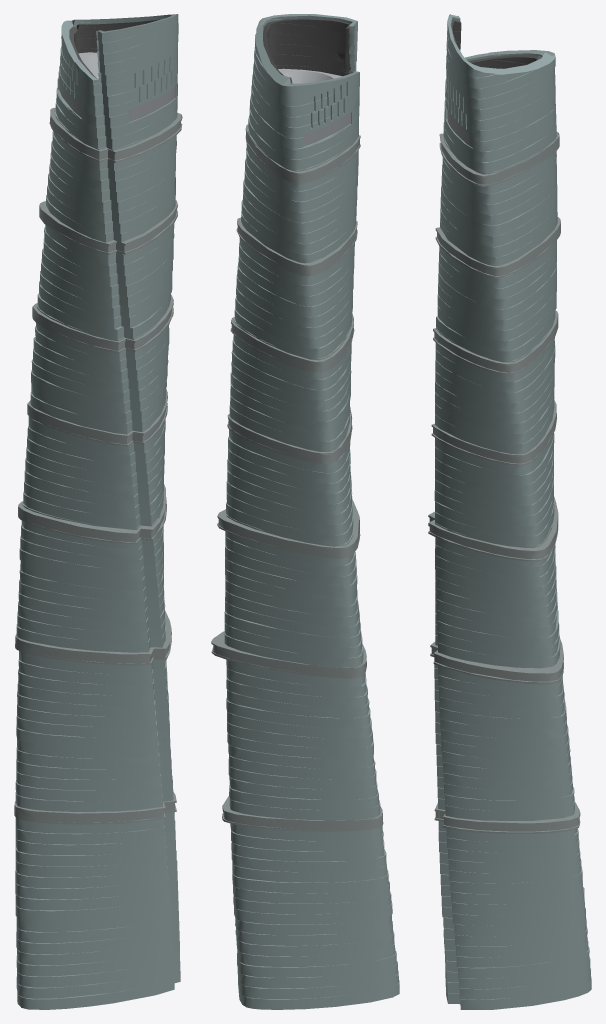
File: shtower.glb
3 renders of one model, left to right at view 1: azimuth 30°, elevation 25°; view 2: azimuth 150°, elevation 25°; view 3: azimuth 270°, elevation 25°, orthographic. The views are drawn at different scales.
Parts seen in each view (by area): view 1: Object_2; view 2: Object_2; view 3: Object_2.
Part boxes in pixels (x1=…): Object_2: x1=14, y1=14, x2=182, y2=1009; Object_2: x1=211, y1=14, x2=399, y2=1009; Object_2: x1=428, y1=14, x2=591, y2=1009.
Size of the model in its own units: 51 by 294 by 45.62.
1 material, 1 textured.
